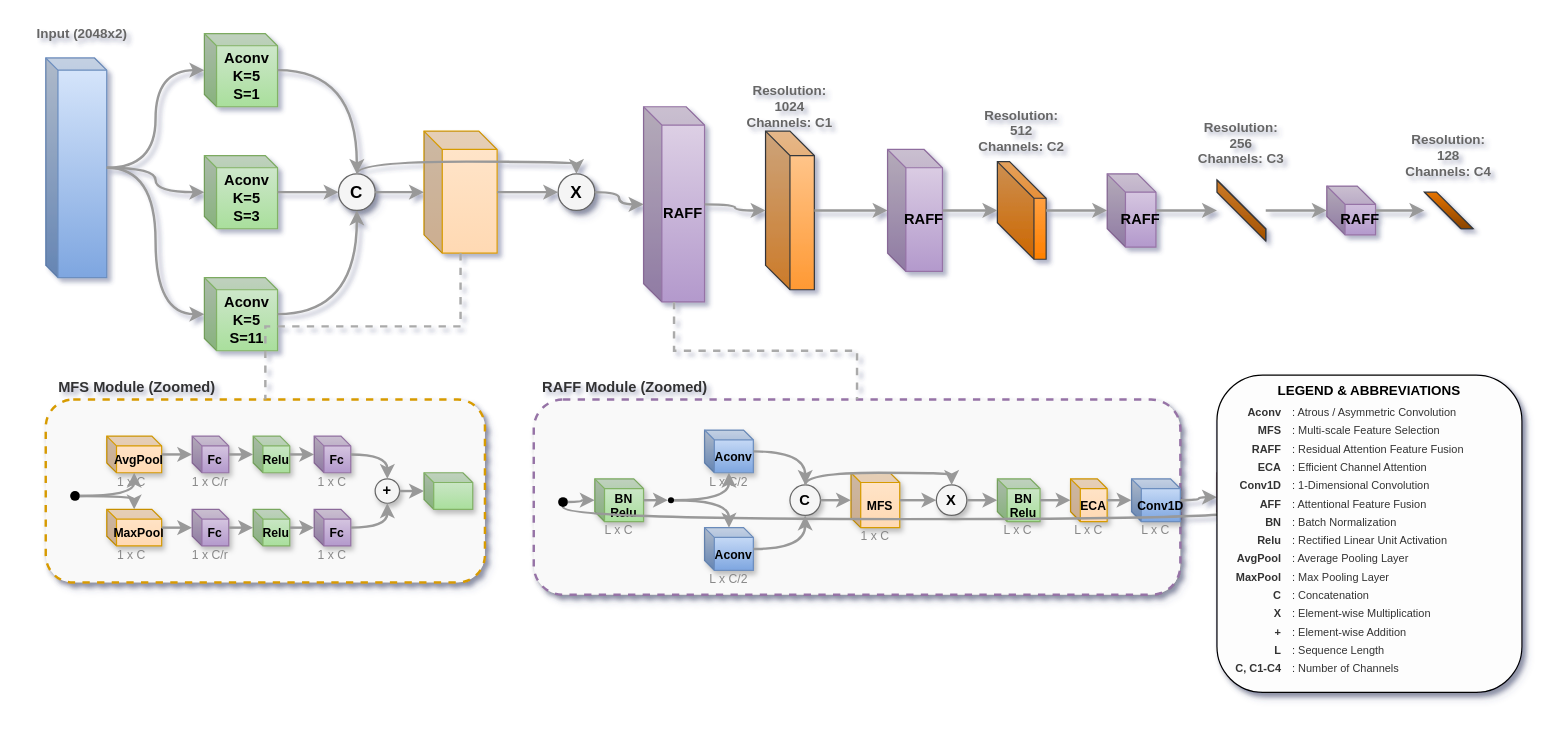
The diagram is 1558 pixels wide and 730 high, and some of its shapes have lost their labels. Each missing label, with the centre of its shape:
F1 1024 x C1: the point at 789,210
F2 512 x C2: the point at 1021,209
F3 256 x C3: the point at 1241,210
F4 128 x C4: the point at 1448,210
IQ Signal 2048x2: the point at 76,167
MFS Module: the point at 460,191
Sigmoid: the point at 449,492
